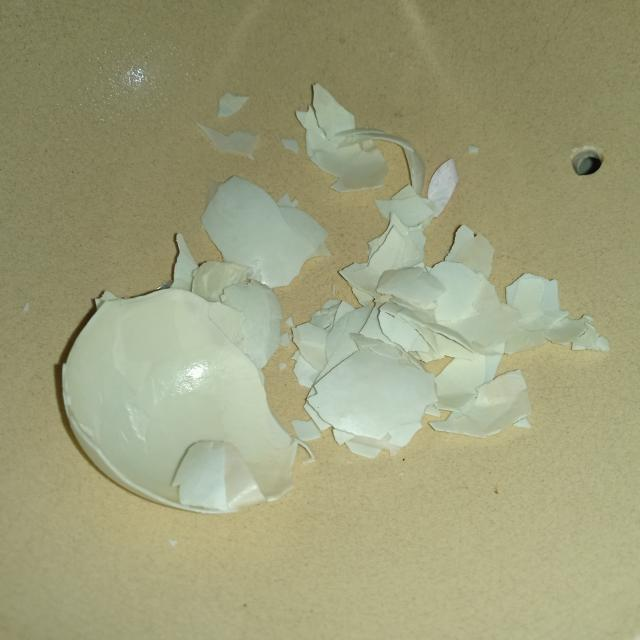egg shell: (32, 278, 305, 536), (280, 67, 437, 222), (295, 326, 432, 462), (204, 170, 334, 292), (408, 299, 550, 361), (509, 268, 606, 358), (420, 372, 541, 438), (418, 224, 502, 318), (335, 221, 423, 301), (285, 302, 383, 362), (383, 155, 462, 226), (378, 266, 443, 312)
